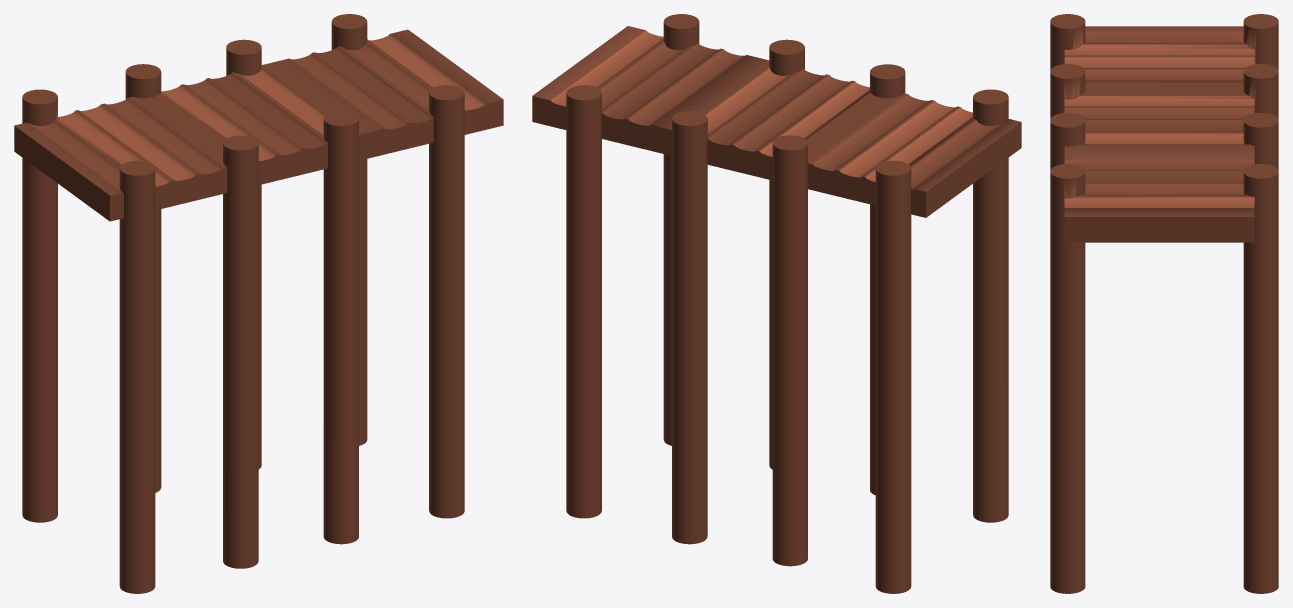
Rendered from Wharf_1.fbx.
3 renders of one model, left to right at view 1: azimuth 30°, elevation 25°; view 2: azimuth 150°, elevation 25°; view 3: azimuth 270°, elevation 25°, orthographic.
Parts seen in each view (by area): view 1: Model; view 2: Model; view 3: Model.
Part boxes in pixels (bbox=[...]): Model: bbox=[14, 14, 503, 593]; Model: bbox=[532, 14, 1021, 593]; Model: bbox=[1050, 14, 1278, 593].
Bounding box in the file's own units: 1027 × 1043 × 520.
